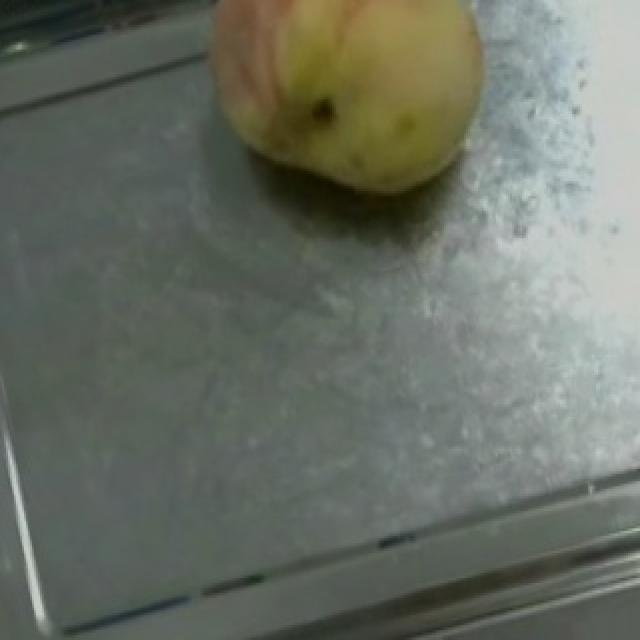Fruit: (172, 0, 510, 228)
